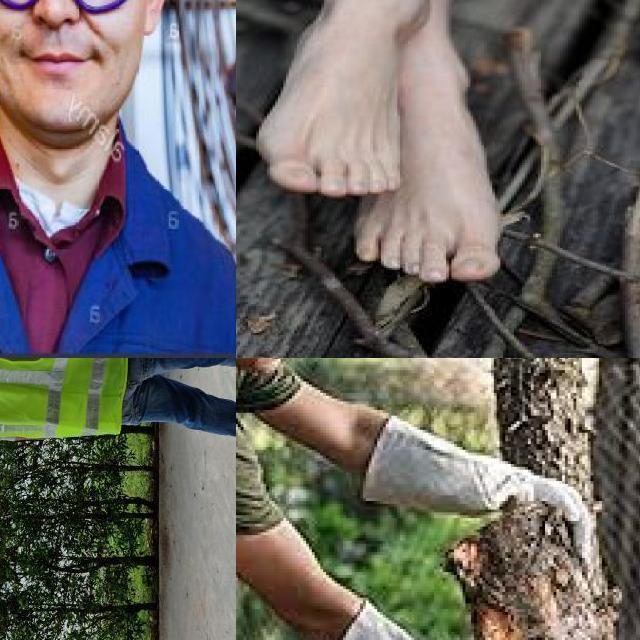Barefoots: (266, 11, 412, 195)
No_Ear-Protection: (144, 0, 170, 37)
face_nomask: (0, 0, 133, 82), (236, 358, 296, 375)
hand_glove: (367, 418, 595, 568)
person: (0, 0, 236, 358), (0, 358, 236, 458)
vest: (0, 358, 132, 444)
